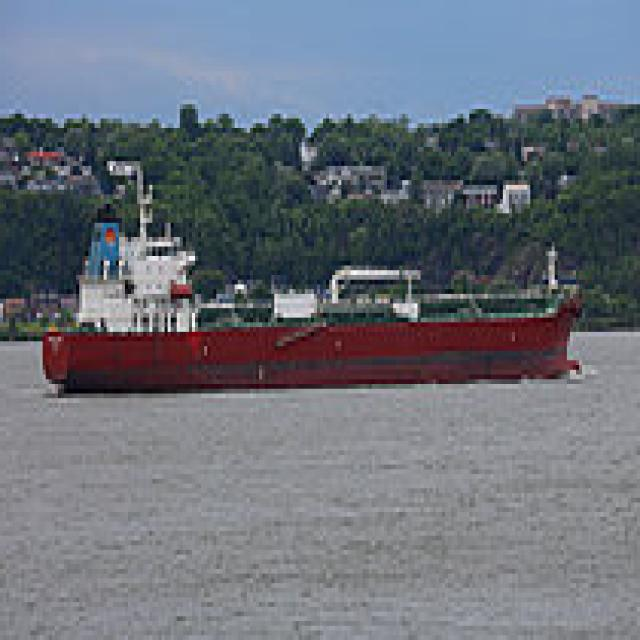Tanker: (43, 152, 591, 394)
